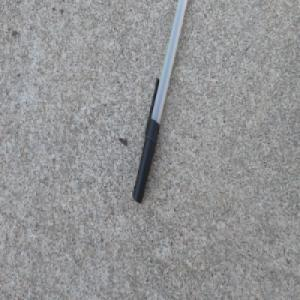Pen: (131, 0, 188, 205)
